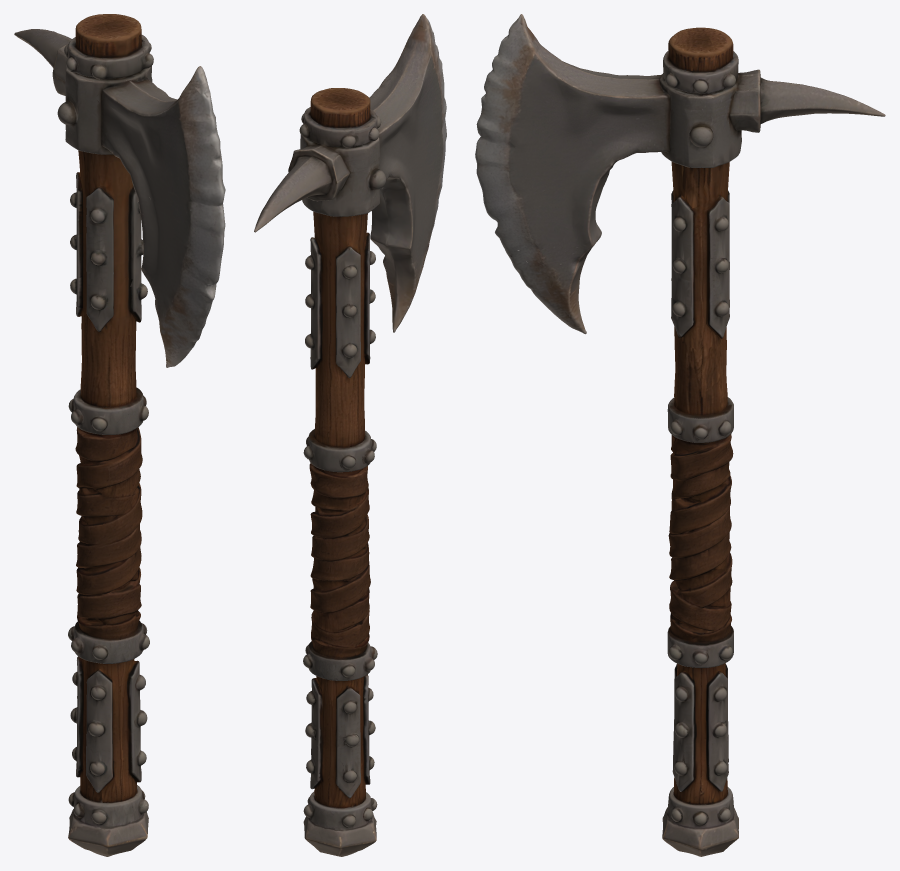
File: axe_hearth.glb
The picture shows the model from 3 angles, left to right: view 1: azimuth 30°, elevation 25°; view 2: azimuth 150°, elevation 25°; view 3: azimuth 270°, elevation 25°; orthographic projection. The views are drawn at different scales.
Parts seen in each view (by area): view 1: weapon; view 2: weapon; view 3: weapon.
Boxes of the visible parts, left/top/right/bottom form: weapon: left=14, top=14, right=225, bottom=856; weapon: left=254, top=14, right=446, bottom=856; weapon: left=475, top=14, right=885, bottom=856.
Bounding box in the file's own units: 0.1202 × 1 × 0.4417.
Materials: 1 (1 with a texture image).
